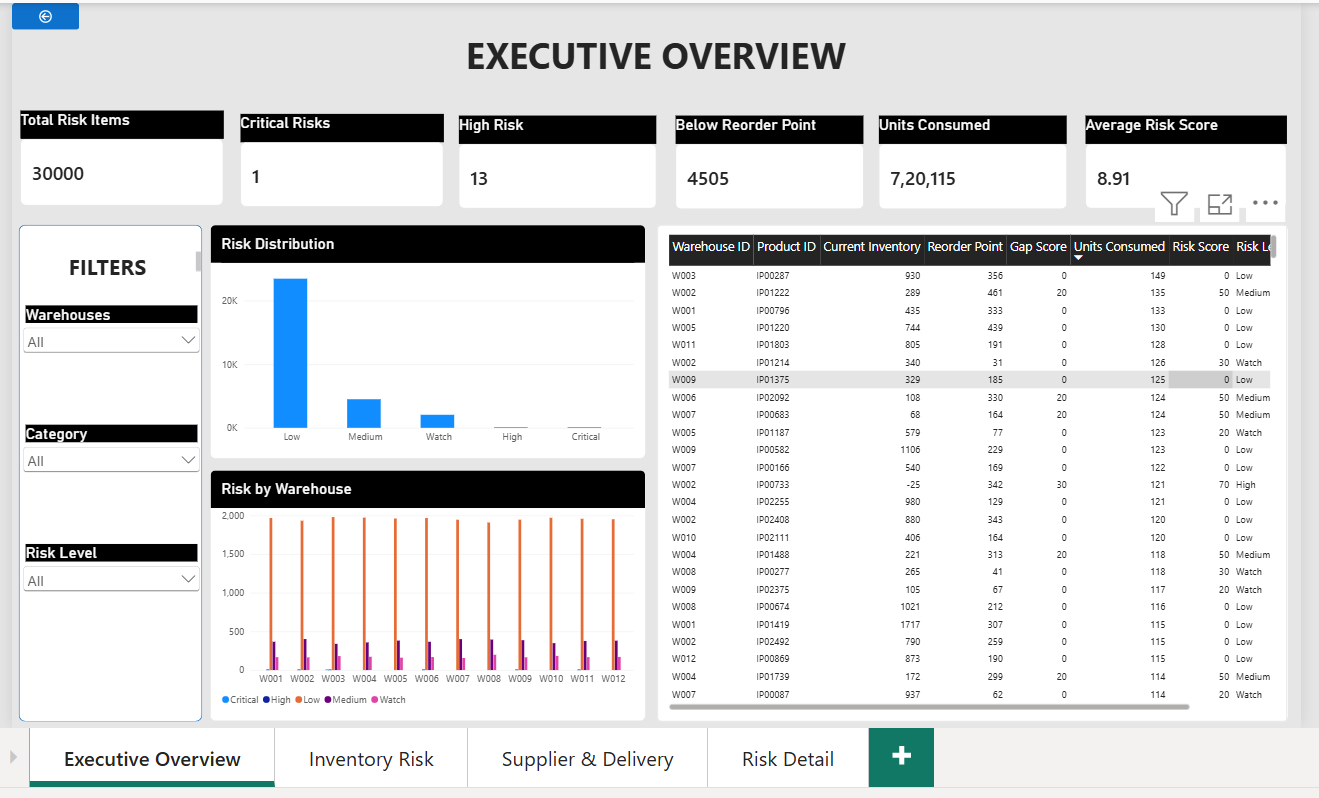

Layout of this report page (visuals, bound fields, positions):
{"tool":"powerbi","page":{"name":"Executive Overview","canvas":[1920,1080],"ordinal":0},"visuals":[{"type":"cardVisual","title":"Total Risk Items","fields":{"Data":["CountNonNull(supply_chain vw_inventory_risk_engine.product_id)"]},"box":[11.3,161.3,302.8,141.5],"z":0},{"type":"cardVisual","title":"Critical Risks","fields":{"Data":["CountNonNull(supply_chain vw_inventory_risk_engine.risk_level)"]},"box":[339.6,164.1,302.8,138.7],"z":1000},{"type":"cardVisual","title":"High Risk","fields":{"Data":["CountNonNull(supply_chain vw_inventory_risk_engine.product_id)"]},"box":[665.1,167,294.3,138.7],"z":2000},{"type":"cardVisual","title":"Below Reorder Point","fields":{"Data":["supply_chain vw_inventory_risk_engine.Below Reorder Point"]},"box":[987.7,167,280,140],"z":3000},{"type":"cardVisual","title":"Units Consumed","fields":{"Data":["supply_chain vw_inventory_risk_engine.Total Units Consumed"]},"box":[1290.5,167,280,140],"z":4000},{"type":"cardVisual","title":"Average Risk Score","fields":{"Data":["supply_chain vw_inventory_risk_engine.Average risk score"]},"box":[1599,167,300,138.7],"z":5000},{"type":"clusteredColumnChart","title":"Risk Distribution","fields":{"Category":["supply_chain vw_inventory_risk_engine.risk_level"],"Y":["CountNonNull(supply_chain vw_inventory_risk_engine.product_id)"]},"box":[294.3,331.1,648.1,348.1],"z":6000},{"type":"shape","box":[10,330,273.3,740],"z":7000},{"type":"tableEx","fields":{"Values":["supply_chain vw_inventory_risk_engine.warehouse_id","supply_chain vw_inventory_risk_engine.product_id","Sum(supply_chain vw_inventory_risk_engine.current_inventory)","Sum(supply_chain vw_inventory_risk_engine.reorder_point)","Sum(supply_chain vw_inventory_risk_engine.gap_score)","Sum(supply_chain vw_inventory_risk_engine.total_units_consumed)","Sum(supply_chain vw_inventory_risk_engine.total_risk_score)","supply_chain vw_inventory_risk_engine.risk_level","products.category"]},"box":[960,330,940,740],"z":8000},{"type":"slicer","fields":{"Values":["supply_chain vw_inventory_risk_engine.warehouse_id"]},"box":[11.3,450,271.7,110.4],"z":9000},{"type":"slicer","fields":{"Values":["products.category"]},"box":[11.3,628.3,271.7,79.2],"z":10000},{"type":"actionButton","box":[0,0,100,40],"z":11000},{"type":"slicer","fields":{"Values":["supply_chain vw_inventory_risk_engine.risk_level"]},"box":[11.3,806.6,271.7,87.7],"z":12000},{"type":"clusteredColumnChart","title":"Risk by Warehouse","fields":{"Category":["supply_chain vw_inventory_risk_engine.warehouse_id"],"Series":["supply_chain vw_inventory_risk_engine.risk_level"],"Y":["CountNonNull(supply_chain vw_inventory_risk_engine.product_id)"]},"box":[294.3,696.2,648.1,373.6],"z":13000},{"type":"textbox","box":[292.5,40,1332.5,110],"z":14000},{"type":"textbox","box":[11.3,370.7,268.9,42.5],"z":15000}]}

Visuals, with their boxes on the page's 1920x1080 design canvas (x1, y1, x2, y2). These are canvas units, not pixel positions in the 1319x798 screenshot, which may show the page scaled, cropped or inside an application window:
"Total Risk Items" cardVisual: l=11, t=161, r=314, b=303
"Critical Risks" cardVisual: l=340, t=164, r=642, b=303
"High Risk" cardVisual: l=665, t=167, r=959, b=306
"Below Reorder Point" cardVisual: l=988, t=167, r=1268, b=307
"Units Consumed" cardVisual: l=1290, t=167, r=1570, b=307
"Average Risk Score" cardVisual: l=1599, t=167, r=1899, b=306
"Risk Distribution" clusteredColumnChart: l=294, t=331, r=942, b=679
shape: l=10, t=330, r=283, b=1070
tableEx - supply_chain vw_inventory_risk_engine.warehouse_id x supply_chain vw_inventory_risk_engine.product_id: l=960, t=330, r=1900, b=1070
slicer - supply_chain vw_inventory_risk_engine.warehouse_id: l=11, t=450, r=283, b=560
slicer - products.category: l=11, t=628, r=283, b=708
actionButton: l=0, t=0, r=100, b=40
slicer - supply_chain vw_inventory_risk_engine.risk_level: l=11, t=807, r=283, b=894
"Risk by Warehouse" clusteredColumnChart: l=294, t=696, r=942, b=1070
textbox: l=292, t=40, r=1625, b=150
textbox: l=11, t=371, r=280, b=413
